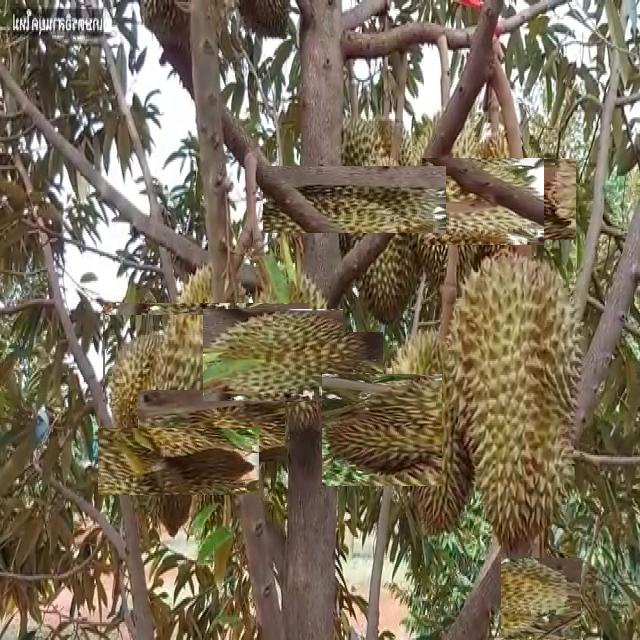durian: (442, 245, 587, 553), (348, 347, 513, 513), (130, 276, 283, 429), (105, 316, 228, 478), (378, 132, 518, 272), (225, 287, 362, 424), (291, 137, 417, 262), (343, 146, 422, 332), (441, 141, 558, 259), (121, 404, 236, 519), (156, 371, 266, 481), (500, 558, 582, 638)
